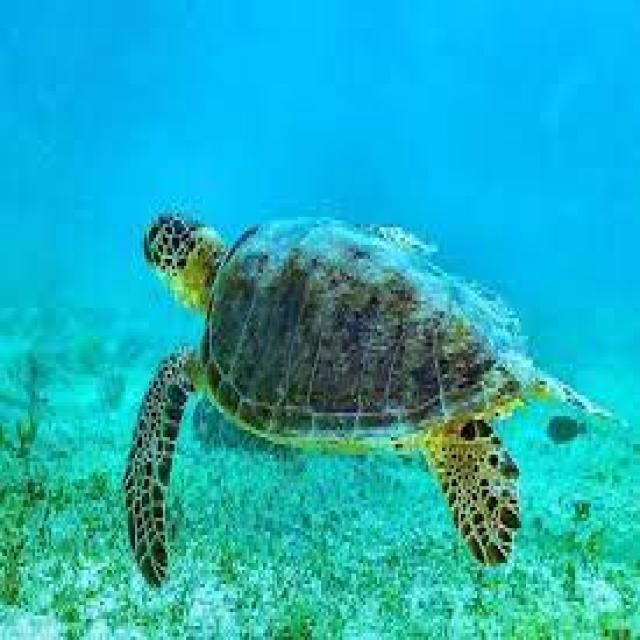Sea turtle: (123, 207, 614, 592)
